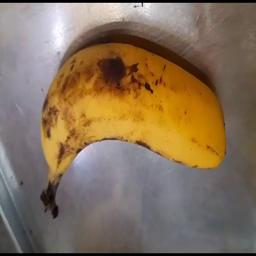Banana Semirotten: (37, 32, 248, 188)
